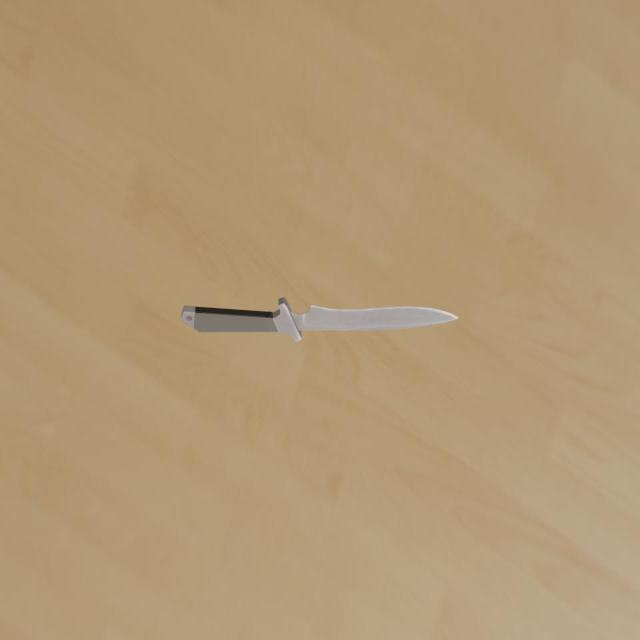knife: (182, 306, 278, 332)
